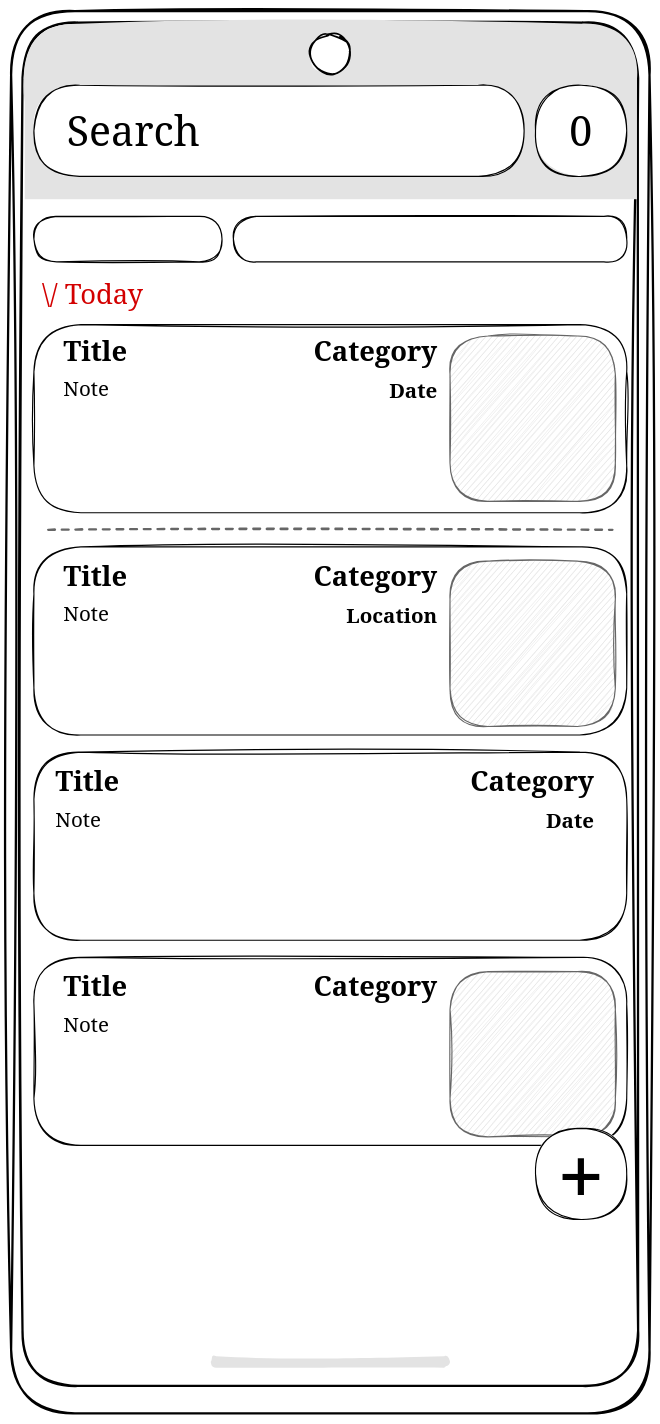
Some shapes in this 660 by 1424 pixel diagram are drawn without their labels. Here are the shapes that lost their labels. From the top down, the centre of each, then its label:
point 127,238: Filters
point 430,238: Category | Date | Location
